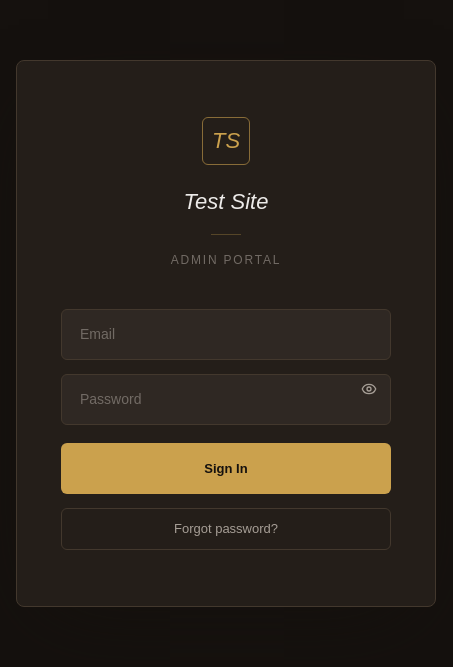
Test: forgot password › reports a connection failure without hinting at the account
Click the button "Forgot password?" at (226, 529), box [61,508,391,550]
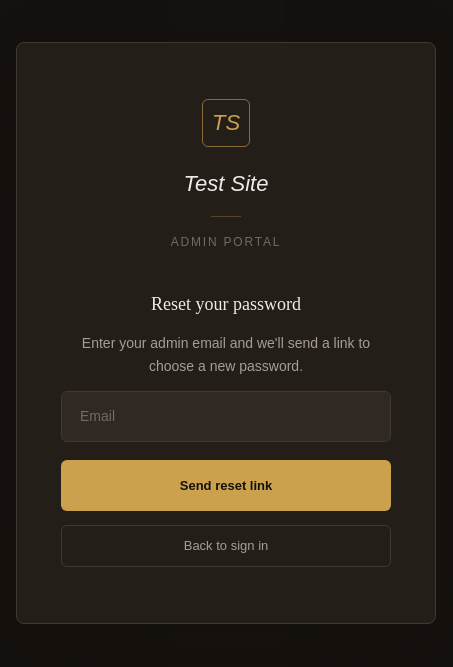
Type "brian@example.com" into the field labelled "Email" at (226, 416), box [61,391,391,442]
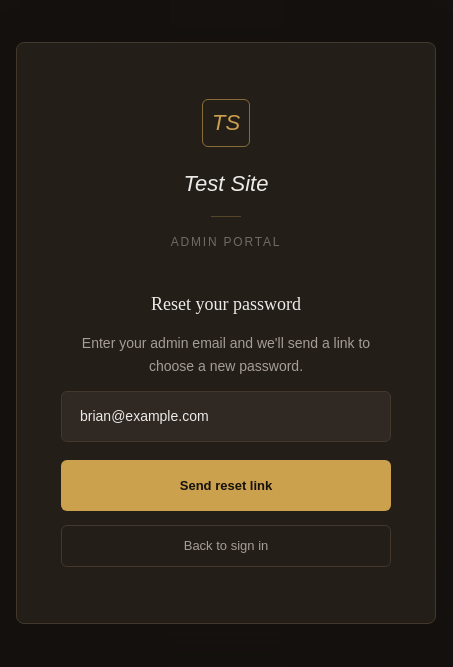
Click the button "Send reset link" at (226, 486), box [61,460,391,511]
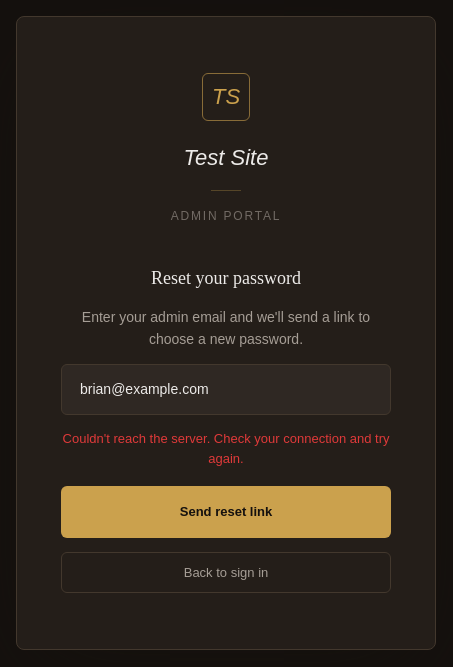
expect the message shows "Couldn't reach the server": met, box [62,431,389,466]
